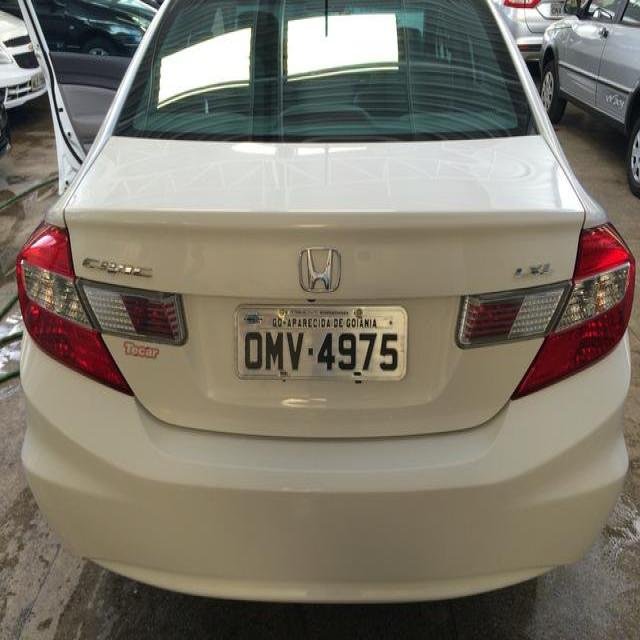Placa: (234, 301, 411, 387)
